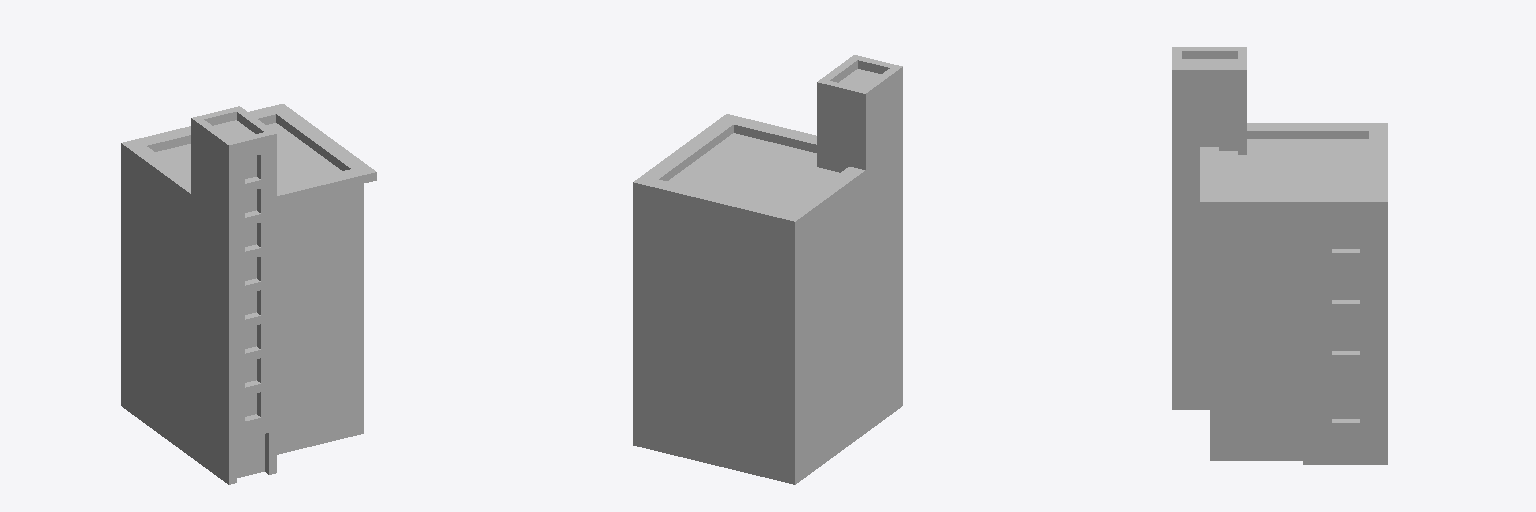
File: Sortir s Pristroikoi.obj
3 views of the same model, side by side, from view 1: azimuth 30°, elevation 25°; view 2: azimuth 150°, elevation 25°; view 3: azimuth 270°, elevation 25° (orthographic).
Parts seen in each view (by area): view 1: object 1; view 2: object 1; view 3: object 1.
Part boxes in pixels (bbox=[...]): object 1: bbox=[121, 104, 376, 484]; object 1: bbox=[633, 55, 902, 484]; object 1: bbox=[1172, 47, 1387, 464].
Bounding box in the file's own units: 2 × 4 × 2.3.